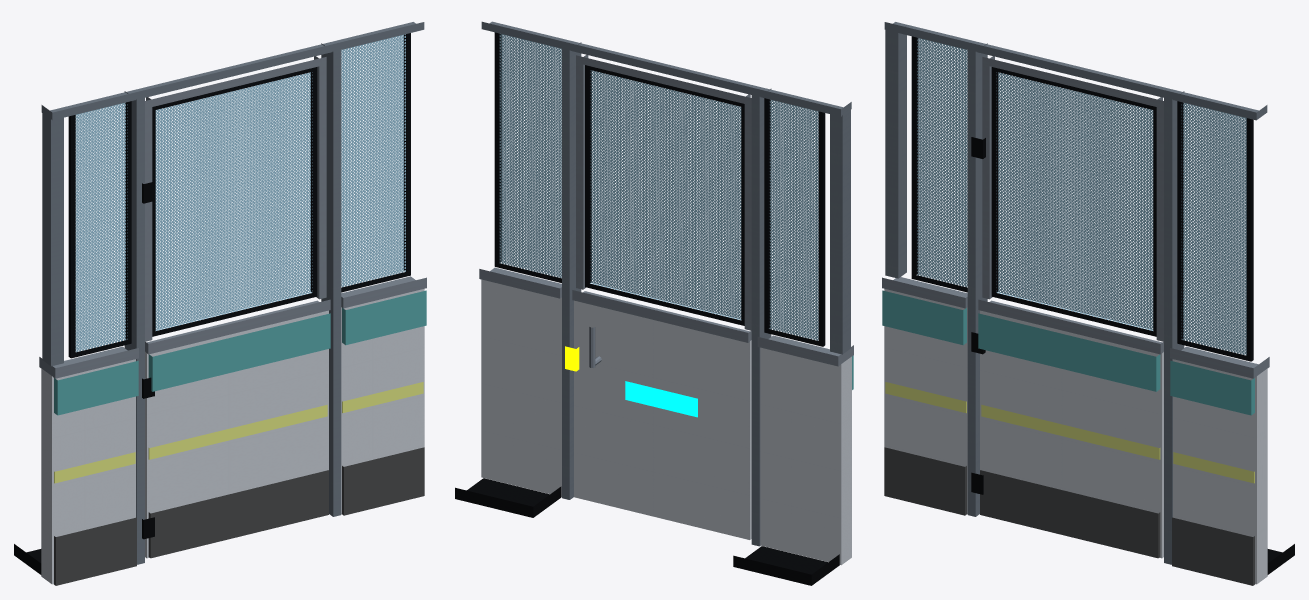
File: tt_rink_board_gate.glb
3 renders of one model, left to right at view 1: azimuth 30°, elevation 25°; view 2: azimuth 150°, elevation 25°; view 3: azimuth 330°, elevation 25°, orthographic. The views are drawn at different scales.
Visible parts, largest first — view 1: Gate_Leaf_Pane_Scissor, Pane_Scissor, Board_Shell, Gate_Posts, Gate_Leaf_Board, Kick_Plate, Gate_Leaf_Kick, Gate_Leaf_Frame, Gate_Leaf_Pad, Cap_Pad, Pane_Frit, Gate_Leaf_Pane_Frit (+4 smaller); view 2: Board_Shell, Gate_Leaf_Board, Gate_Leaf_Pane_Scissor, Pane_Scissor, Gate_Posts, Gate_Leaf_Frame, Pane_Frit, Sill_Frame, Gate_Leaf_Pane_Frit, Cap_Rail, Gate_Sign_LED; view 3: Gate_Leaf_Pane_Scissor, Pane_Scissor, Board_Shell, Gate_Leaf_Board, Gate_Posts, Kick_Plate, Gate_Leaf_Kick, Gate_Leaf_Frame, Gate_Leaf_Pad, Cap_Pad, Pane_Frit, Gate_Leaf_Pane_Frit (+4 smaller).
Boxes of the visible parts, box(x1,y1,x2,y2) form: Gate_Leaf_Pane_Scissor: box(155, 72, 312, 330); Pane_Scissor: box(75, 34, 405, 352); Board_Shell: box(41, 288, 424, 584); Gate_Posts: box(41, 22, 424, 564); Gate_Leaf_Board: box(145, 310, 328, 558); Kick_Plate: box(54, 447, 424, 585); Gate_Leaf_Kick: box(148, 470, 328, 558); Gate_Leaf_Frame: box(145, 56, 330, 354); Gate_Leaf_Pad: box(148, 313, 330, 391); Cap_Pad: box(54, 290, 426, 415); Pane_Frit: box(68, 33, 410, 358); Gate_Leaf_Pane_Frit: box(152, 67, 317, 336); Board_Shell: box(481, 279, 851, 565); Gate_Leaf_Board: box(574, 300, 751, 539); Gate_Leaf_Pane_Scissor: box(590, 70, 741, 320); Pane_Scissor: box(499, 33, 818, 340); Gate_Posts: box(481, 21, 851, 546); Gate_Leaf_Frame: box(572, 54, 751, 342); Pane_Frit: box(494, 32, 825, 346); Sill_Frame: box(455, 478, 839, 585); Gate_Leaf_Pane_Frit: box(585, 65, 744, 325); Cap_Rail: box(479, 267, 853, 366); Gate_Sign_LED: box(625, 381, 697, 417); Gate_Leaf_Pane_Scissor: box(996, 72, 1153, 330); Pane_Scissor: box(917, 38, 1246, 355); Board_Shell: box(884, 288, 1267, 584); Gate_Leaf_Board: box(980, 310, 1163, 558); Gate_Posts: box(884, 22, 1267, 564); Kick_Plate: box(884, 447, 1254, 585); Gate_Leaf_Kick: box(980, 470, 1160, 558); Gate_Leaf_Frame: box(978, 56, 1163, 354); Gate_Leaf_Pad: box(978, 313, 1160, 391); Cap_Pad: box(882, 290, 1254, 415); Pane_Frit: box(911, 36, 1253, 361); Gate_Leaf_Pane_Frit: box(991, 67, 1156, 336).
Size of what is drawn, in the model's own units: 2 by 2.42 by 0.405.
11 materials, 6 textured.
